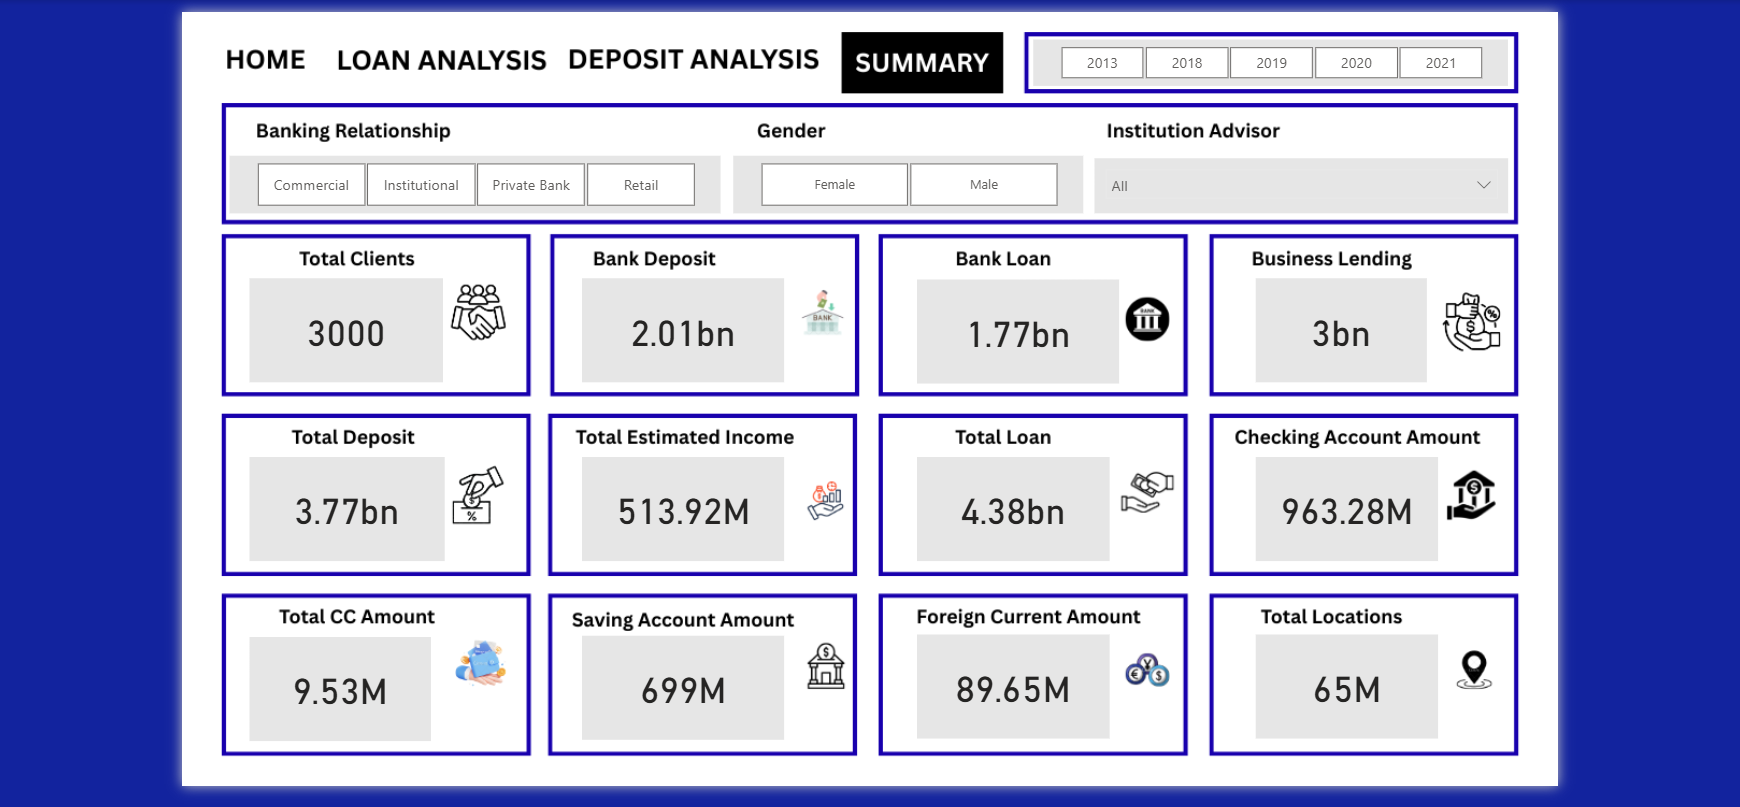

The page's visual inventory and layout, read from the dashboard file:
{"tool":"powerbi","page":{"name":"Summary","canvas":[1280,720],"ordinal":3},"visuals":[{"type":"slicer","fields":{"Values":["Banking.Year Of Joining"]},"box":[791.3,25.2,441.9,43.2],"z":0},{"type":"slicer","fields":{"Values":["Banking.BRId"]},"box":[44.2,133.7,457,53.5],"z":1},{"type":"slicer","fields":{"Values":["Banking.GenderId"]},"box":[512.8,133.7,325.6,53.5],"z":2},{"type":"slicer","fields":{"Values":["Banking.IAId"]},"box":[848.8,136,384.9,51.2],"z":3},{"type":"card","fields":{"Values":["Banking.Total Loan"]},"box":[683.7,414,179.1,96.5],"z":4},{"type":"card","fields":{"Values":["CountNonNull(Banking.Client ID)"]},"box":[62.8,247.7,180.2,96.5],"z":6},{"type":"card","fields":{"Values":["Sum(Banking.Business Lending)"]},"box":[998.8,247.7,159.3,96.5],"z":7},{"type":"card","fields":{"Values":["Sum(Banking.Bank Loans)"]},"box":[683.7,248.8,188.4,96.5],"z":8},{"type":"card","fields":{"Values":["Sum(Banking.Bank Deposits)"]},"box":[372.1,247.7,188.4,96.5],"z":9},{"type":"card","fields":{"Values":["Banking.Total Deposit"]},"box":[62.8,414,181.4,96.5],"z":10},{"type":"card","fields":{"Values":["Sum(Banking.Credit Card Balance)"]},"box":[62.8,581.4,168.6,96.5],"z":11},{"type":"card","fields":{"Values":["Sum(Banking.Saving Accounts)"]},"box":[372.1,580.2,188.4,96.5],"z":12},{"type":"card","fields":{"Values":["Sum(Banking.Foreign Currency Account)"]},"box":[683.7,579.1,179.1,96.5],"z":13},{"type":"card","fields":{"Values":["Sum(Banking.Location ID)"]},"box":[998.8,579.1,169.8,96.5],"z":14},{"type":"card","fields":{"Values":["Sum(Banking.Checking Accounts)"]},"box":[998.8,414,169.8,96.5],"z":15},{"type":"card","fields":{"Values":["Sum(Banking.Estimated Income)"]},"box":[372.1,414,188.4,96.5],"z":16}]}

Visuals, with their boxes on the page's 1280x720 design canvas (x1, y1, x2, y2). These are canvas units, not pixel positions in the 1740x807 screenshot, which may show the page scaled, cropped or inside an application window:
slicer - Banking.Year Of Joining: [791, 25, 1233, 68]
slicer - Banking.BRId: [44, 134, 501, 187]
slicer - Banking.GenderId: [513, 134, 838, 187]
slicer - Banking.IAId: [849, 136, 1234, 187]
card - Banking.Total Loan: [684, 414, 863, 510]
card - CountNonNull(Banking.Client ID): [63, 248, 243, 344]
card - Sum(Banking.Business Lending): [999, 248, 1158, 344]
card - Sum(Banking.Bank Loans): [684, 249, 872, 345]
card - Sum(Banking.Bank Deposits): [372, 248, 560, 344]
card - Banking.Total Deposit: [63, 414, 244, 510]
card - Sum(Banking.Credit Card Balance): [63, 581, 231, 678]
card - Sum(Banking.Saving Accounts): [372, 580, 560, 677]
card - Sum(Banking.Foreign Currency Account): [684, 579, 863, 676]
card - Sum(Banking.Location ID): [999, 579, 1169, 676]
card - Sum(Banking.Checking Accounts): [999, 414, 1169, 510]
card - Sum(Banking.Estimated Income): [372, 414, 560, 510]
